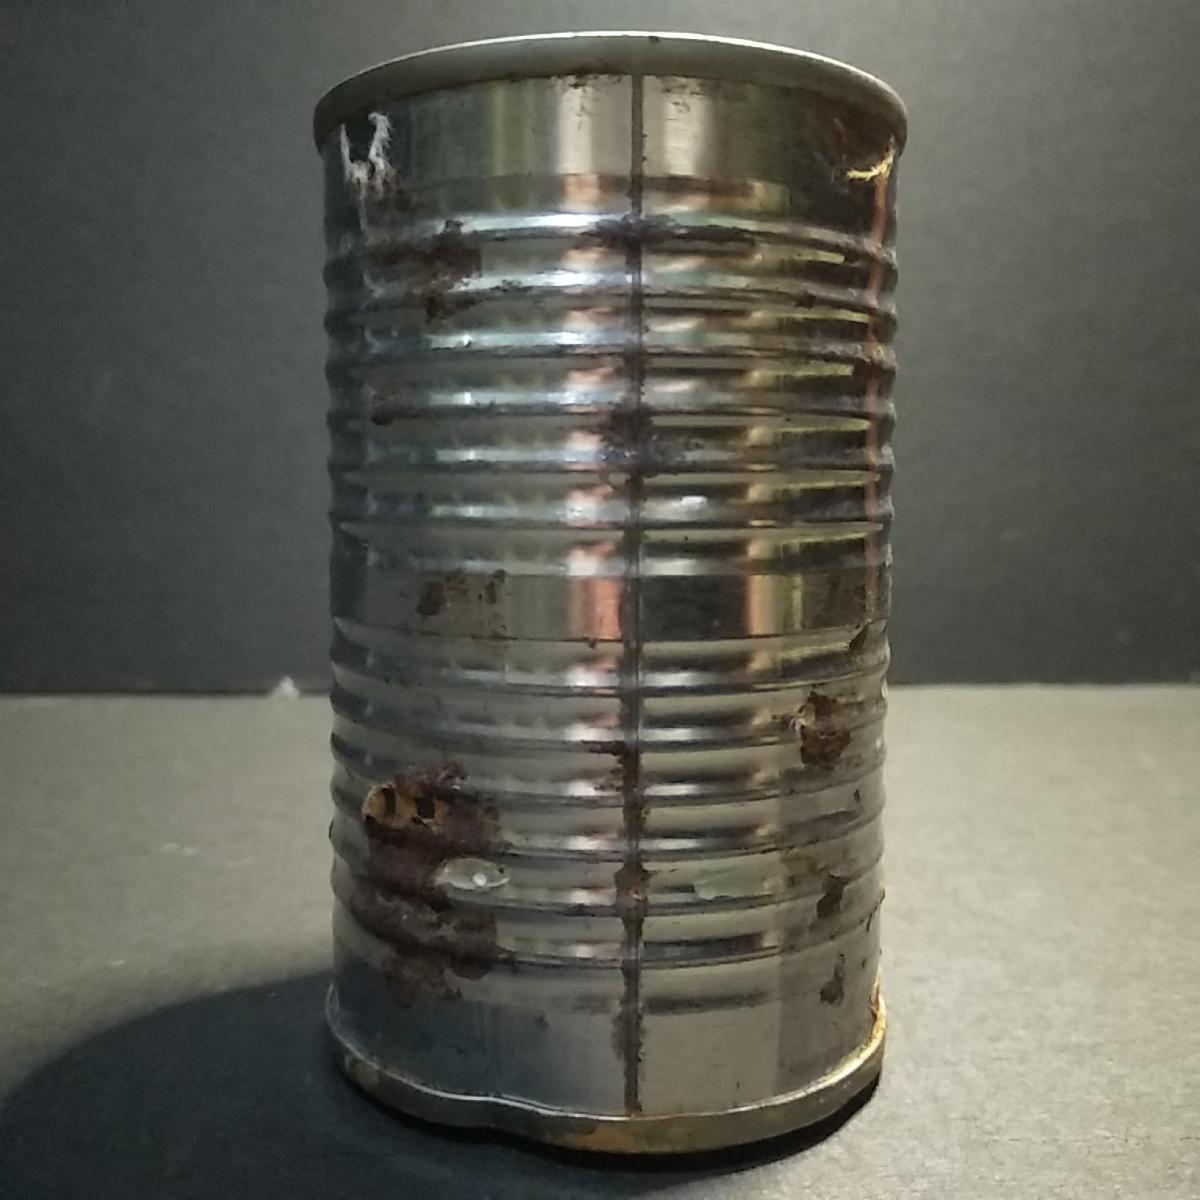Rusted: (295, 8, 916, 1180)
